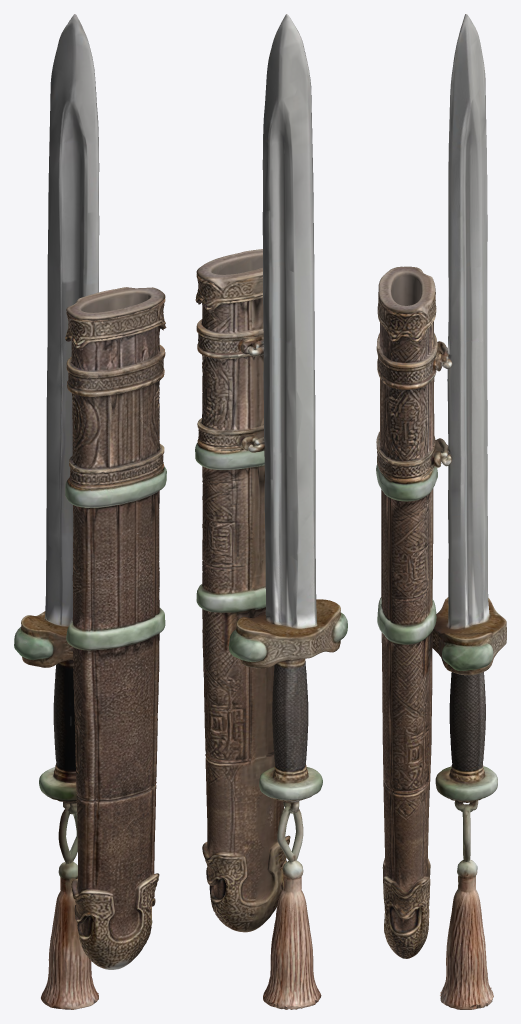
3 views of the same model, side by side, from view 1: azimuth 30°, elevation 25°; view 2: azimuth 210°, elevation 25°; view 3: azimuth 270°, elevation 25° (orthographic).
Parts seen in each view (by area): view 1: tripo_node_4d3da9dc-9d1b-4ea5-82a3-035fa9e58531; view 2: tripo_node_4d3da9dc-9d1b-4ea5-82a3-035fa9e58531; view 3: tripo_node_4d3da9dc-9d1b-4ea5-82a3-035fa9e58531.
Part boxes in pixels (<box>): tripo_node_4d3da9dc-9d1b-4ea5-82a3-035fa9e58531: <box>14,14,166,1009</box>; tripo_node_4d3da9dc-9d1b-4ea5-82a3-035fa9e58531: <box>195,14,347,1009</box>; tripo_node_4d3da9dc-9d1b-4ea5-82a3-035fa9e58531: <box>376,14,506,1009</box>.
Bounding box in the file's own units: 0.1225 × 0.9815 × 0.1179.
Materials: 1 (1 with a texture image).
